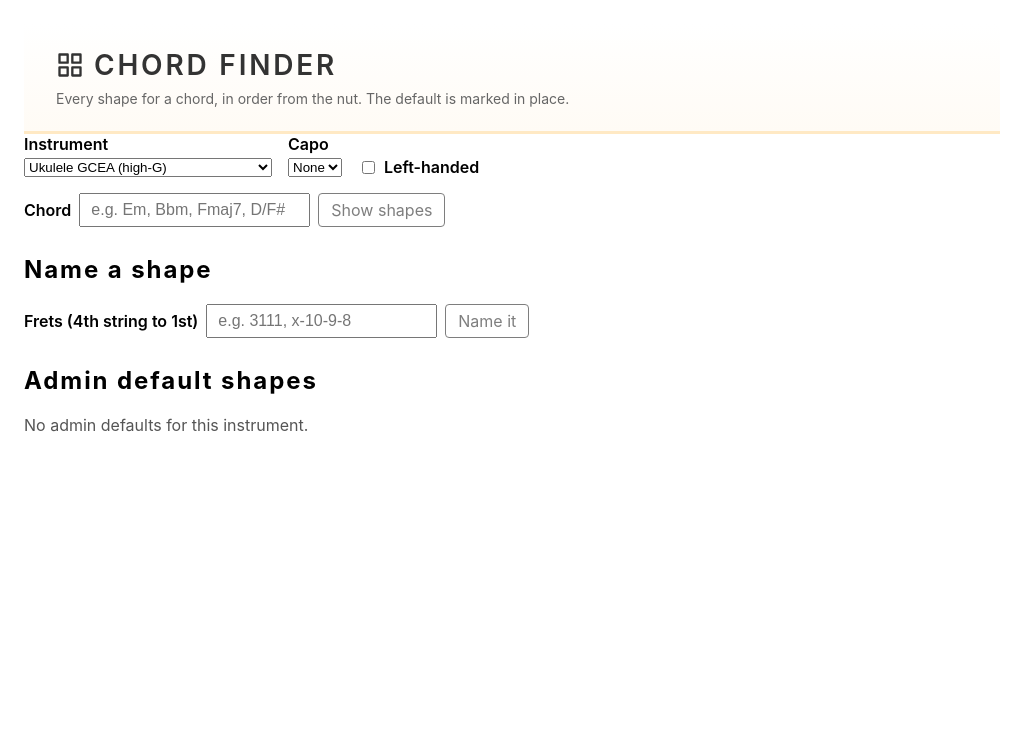
Test: ChordFinder › with no admin default, the first shape is marked "first in list"
In the field labelled "Chord": (195,210) [79, 193, 310, 227], type "C"
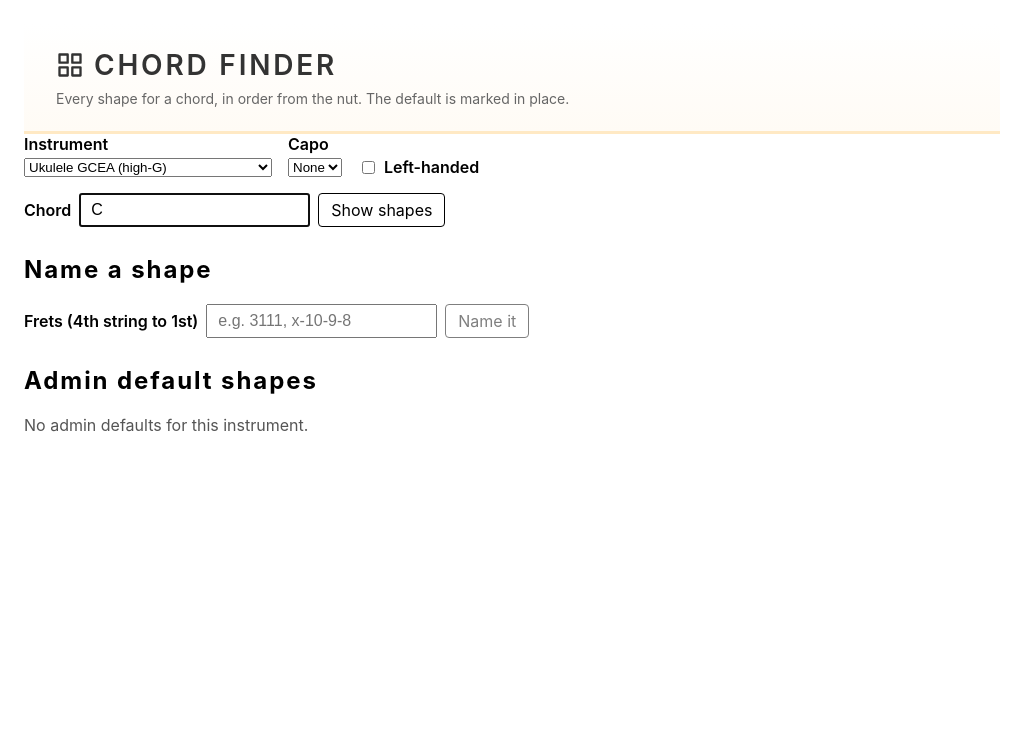
Click the button "Show shapes": (382,210) [318, 193, 445, 227]
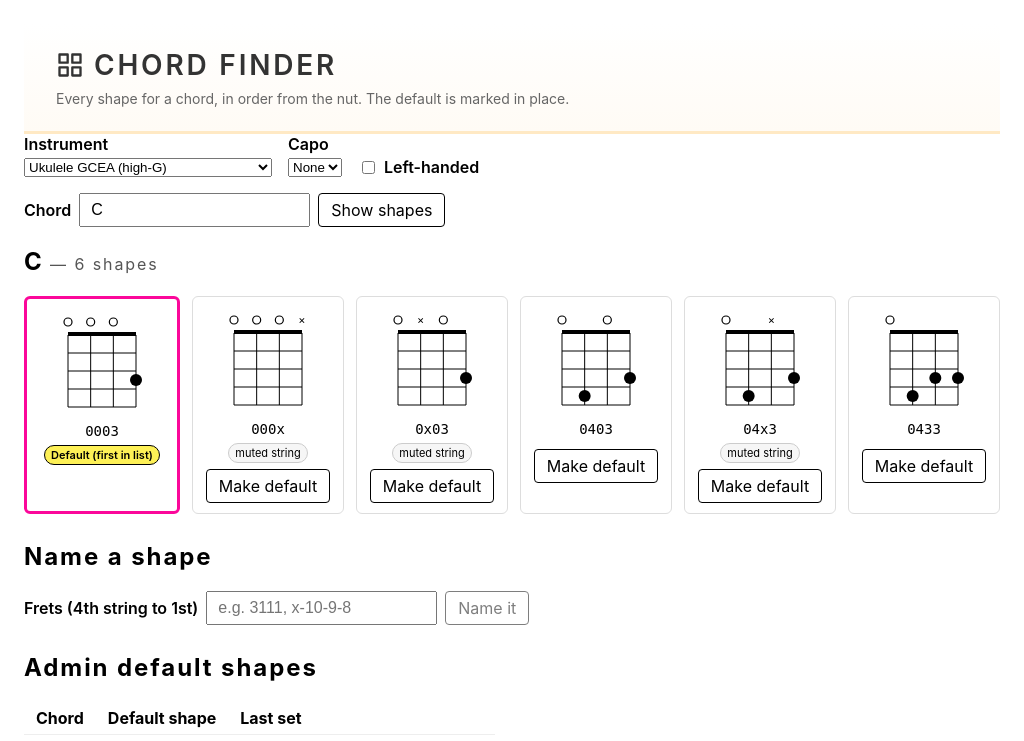
Expected: the text "Default (first in list)" is shown, [44, 445, 160, 465]
Expected: the text "muted string" below "000x" is shown, [235, 446, 301, 460]
